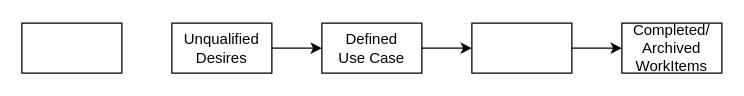
This 744x96 diagram has some shape labels left out. Here are the shapes that lost their labels. From the top down, the centre of each, then its label:
(71,47): Issues
(521,47): Quantified WorkItems
